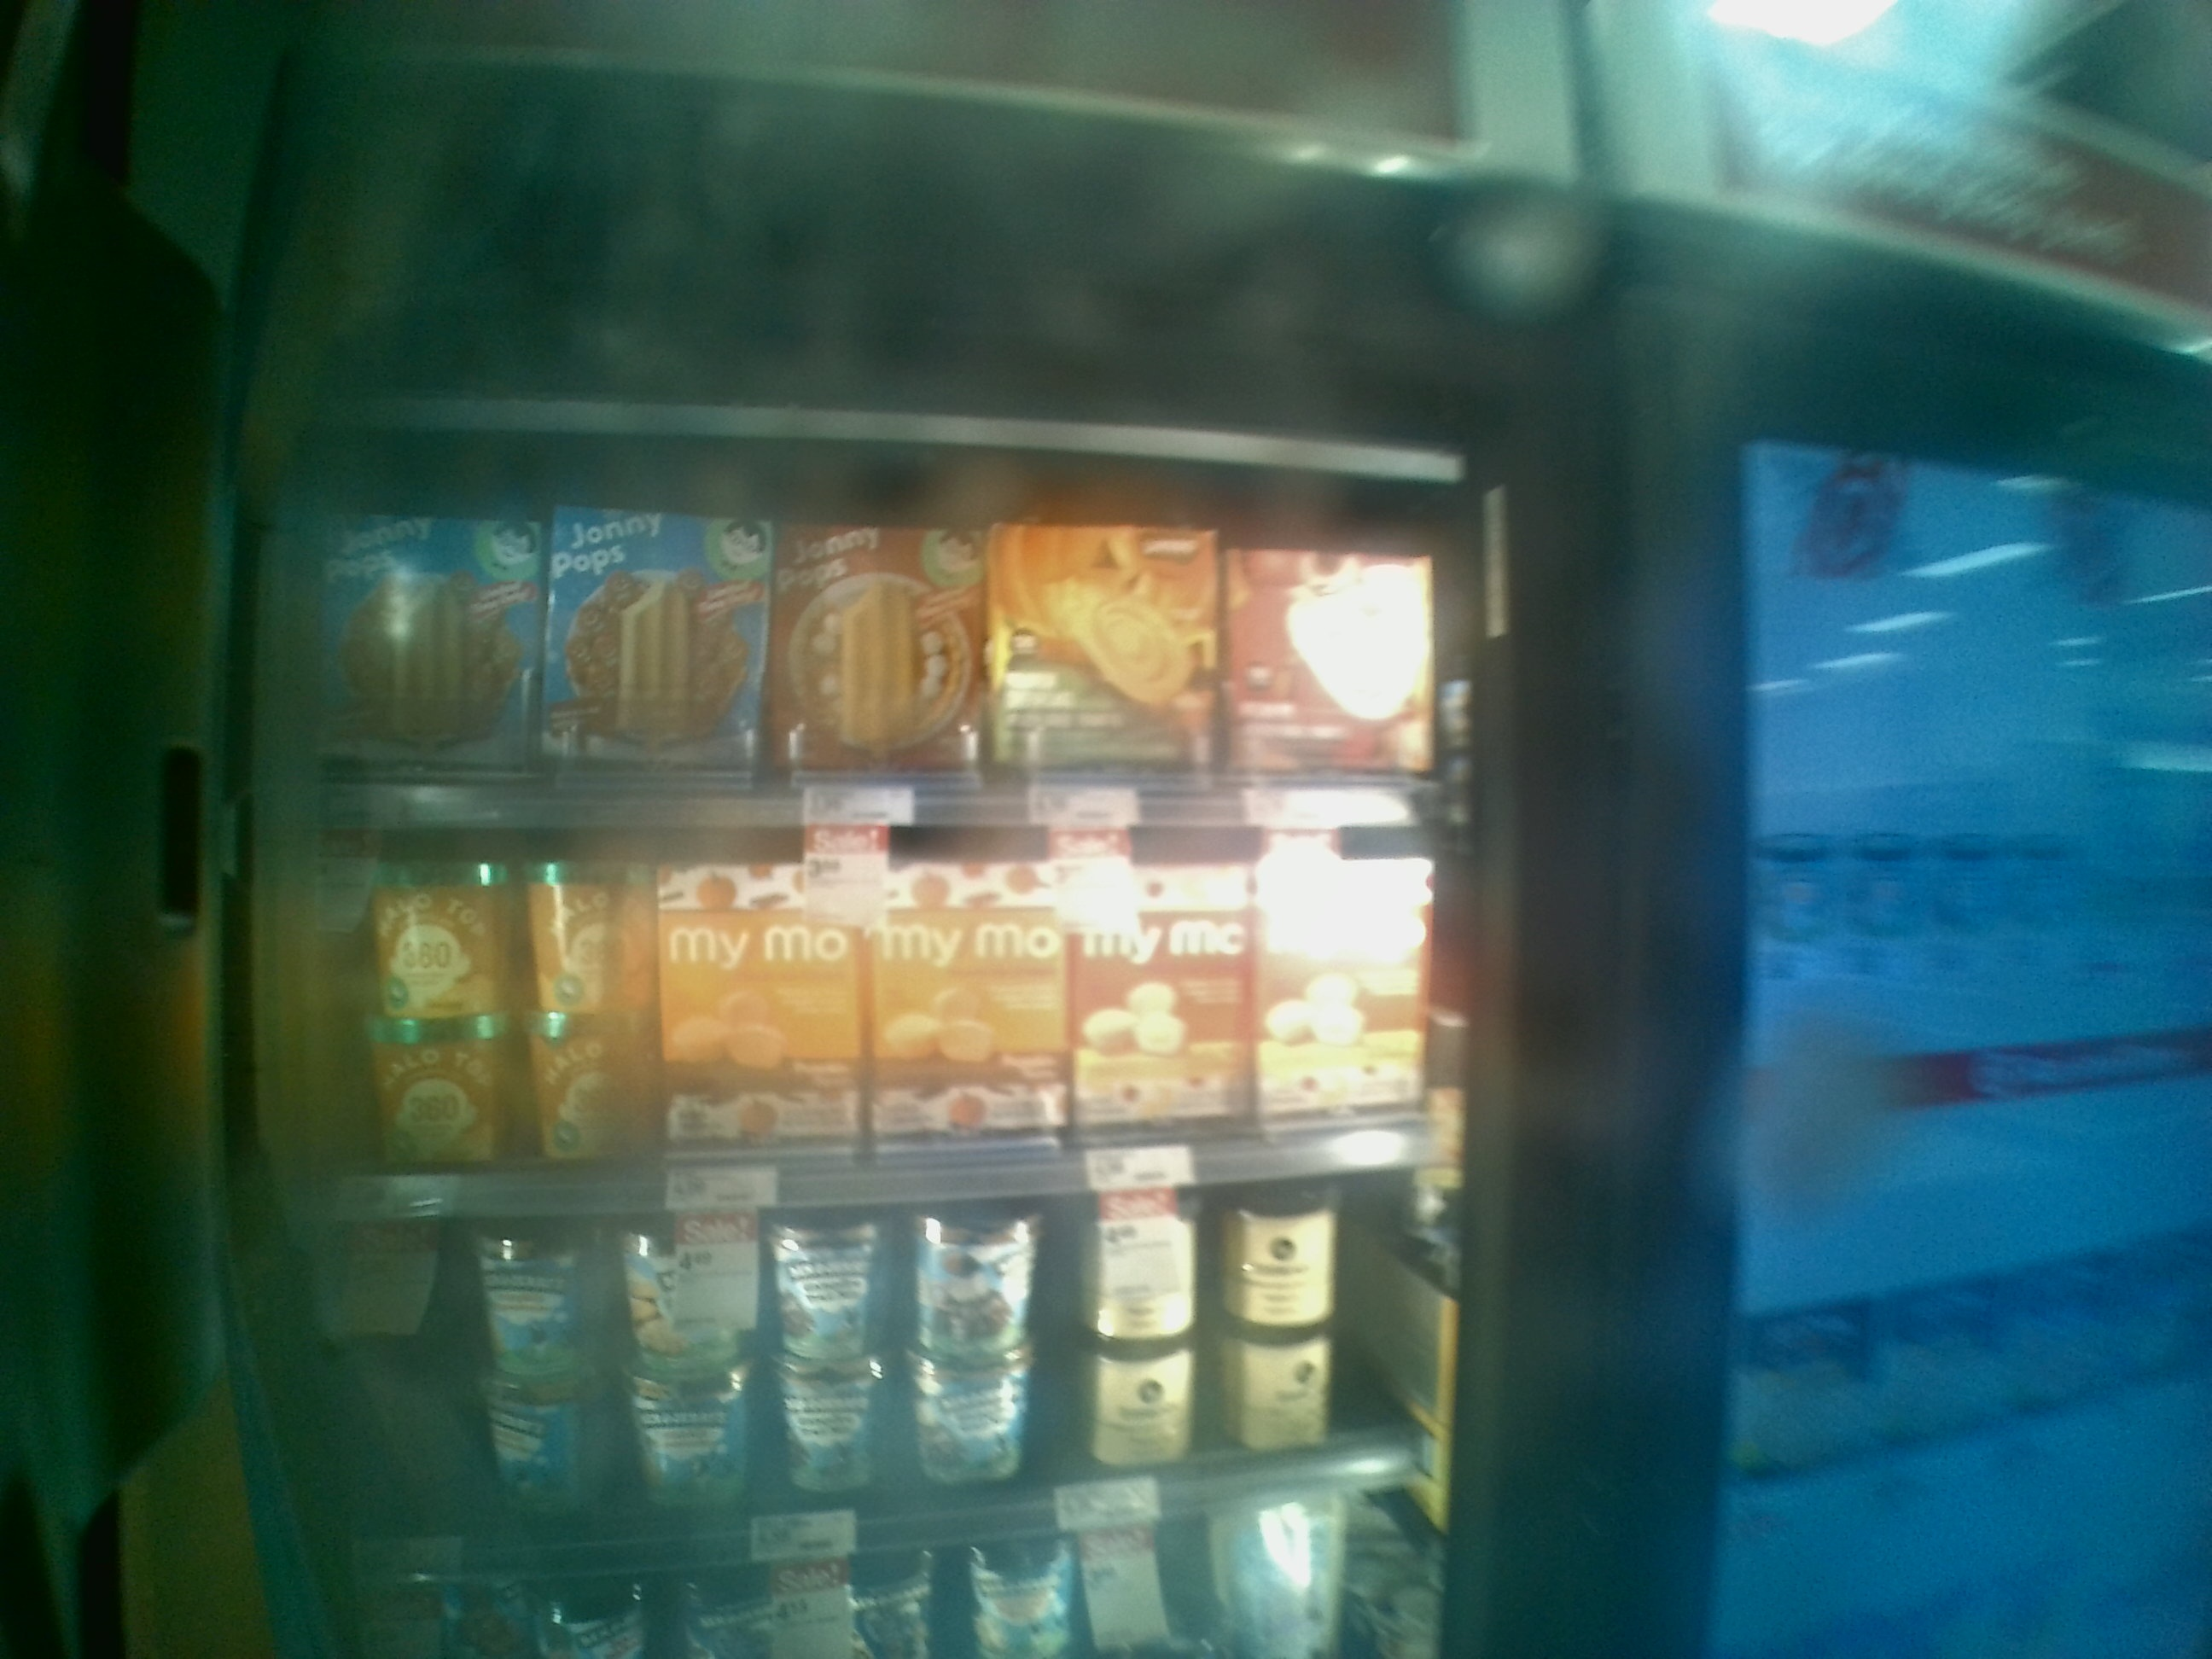shelf: (268, 416, 1465, 829), (254, 821, 1470, 1182)
